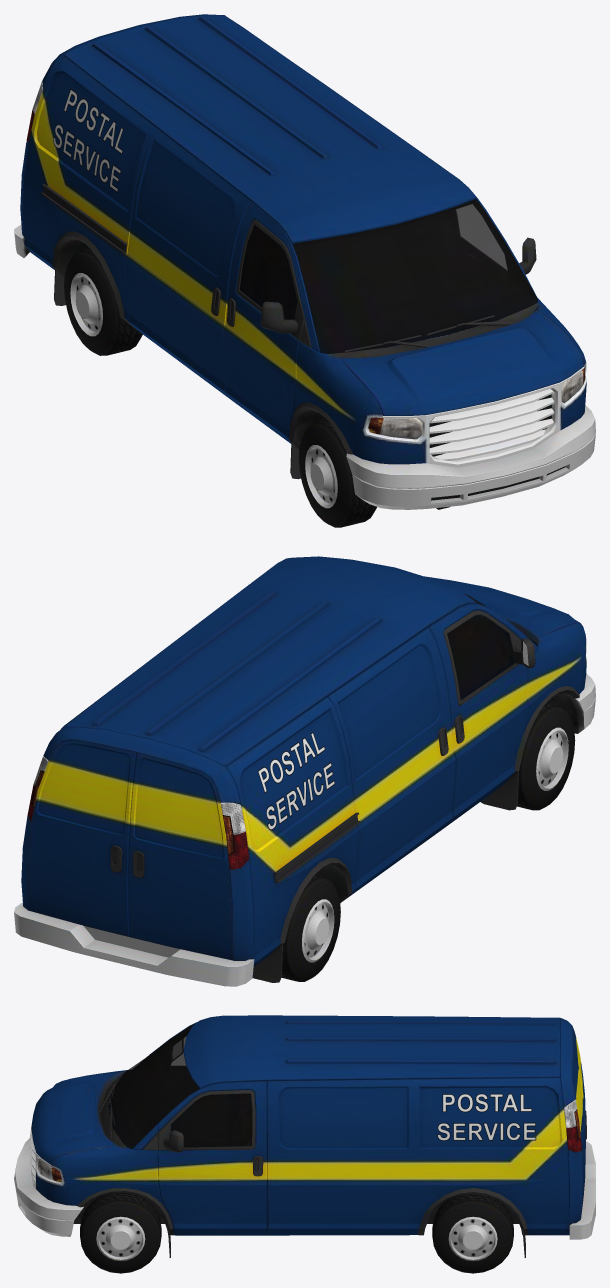
File: van_postvan.glb
3 renders of one model, top to bottom at view 1: azimuth 30°, elevation 25°; view 2: azimuth 150°, elevation 25°; view 3: azimuth 270°, elevation 25°, orthographic. The views are drawn at different scales.
Parts seen in each view (by area): view 1: paint, glass, decal, lights; view 2: paint, glass, decal, lights; view 3: paint, glass, decal, lights.
Part boxes in pixels (x1,y1,x2,y2): paint: (14, 14, 595, 527); glass: (239, 199, 537, 353); decal: (53, 89, 123, 192); lights: (26, 81, 585, 439); paint: (14, 556, 595, 986); glass: (447, 593, 538, 699); decal: (257, 732, 334, 830); lights: (27, 756, 249, 870); paint: (14, 1015, 595, 1273); glass: (108, 1023, 252, 1148); decal: (437, 1093, 536, 1140); lights: (38, 1100, 581, 1182).
Size of the model in its own units: 2.19 by 1.98 by 5.34.
4 materials, 4 textured.
